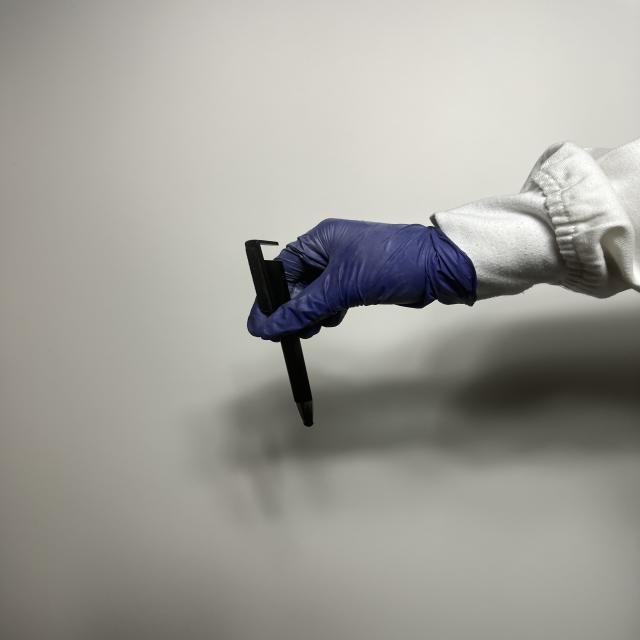gloves_contaminated: (248, 219, 477, 340)
